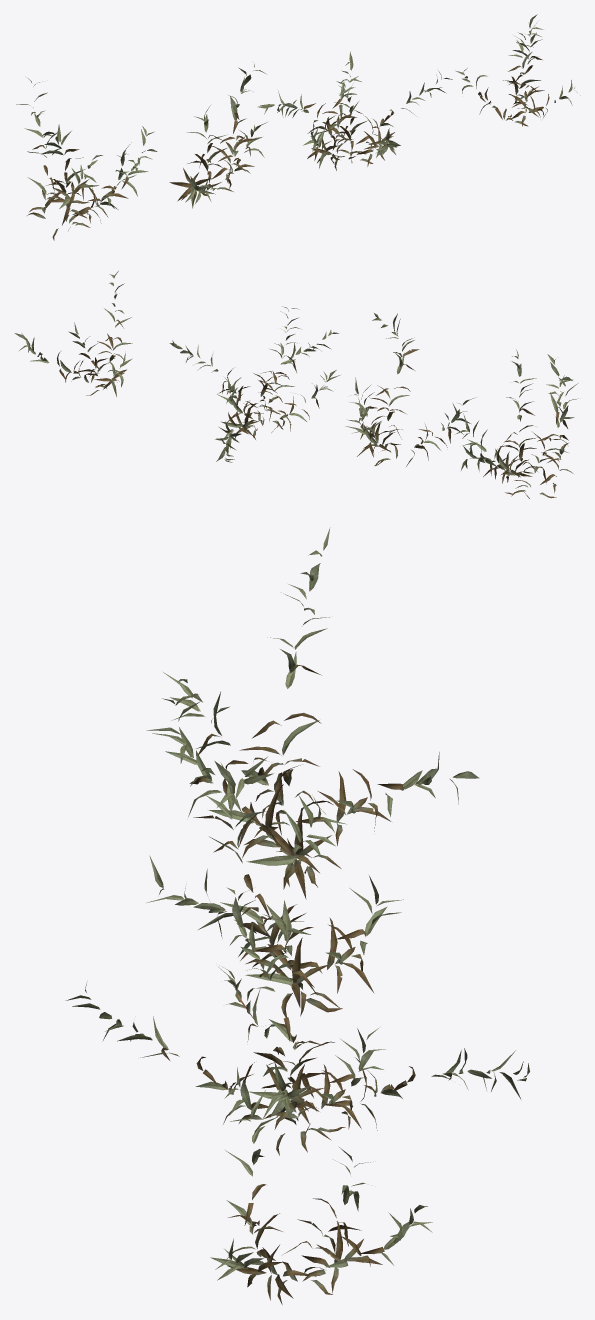
Rendered from shrub_02.glb.
The picture shows the model from 3 angles, top to bottom: view 1: azimuth 30°, elevation 25°; view 2: azimuth 150°, elevation 25°; view 3: azimuth 270°, elevation 25°; orthographic projection. The views are drawn at different scales.
Visible parts, largest first — view 1: shrub_02_c, shrub_02_a, shrub_02_b, shrub_02_d; view 2: shrub_02_c, shrub_02_a, shrub_02_b, shrub_02_d; view 3: shrub_02_a, shrub_02_c, shrub_02_b, shrub_02_d.
Part boxes in pixels (left/top/right/bottom): shrub_02_c: left=258, top=51, right=452, bottom=170; shrub_02_a: left=16, top=78, right=157, bottom=240; shrub_02_b: left=169, top=64, right=267, bottom=208; shrub_02_d: left=455, top=14, right=580, bottom=126; shrub_02_c: left=169, top=306, right=340, bottom=462; shrub_02_a: left=455, top=349, right=578, bottom=498; shrub_02_b: left=345, top=313, right=475, bottom=466; shrub_02_d: left=14, top=271, right=132, bottom=396; shrub_02_a: left=146, top=527, right=479, bottom=899; shrub_02_c: left=65, top=887, right=529, bottom=1155; shrub_02_b: left=146, top=757, right=403, bottom=1017; shrub_02_d: left=210, top=1067, right=432, bottom=1304.
Bounding box in the file's own units: 6.04 × 1.7 × 2.28.
1 material, 1 textured.
